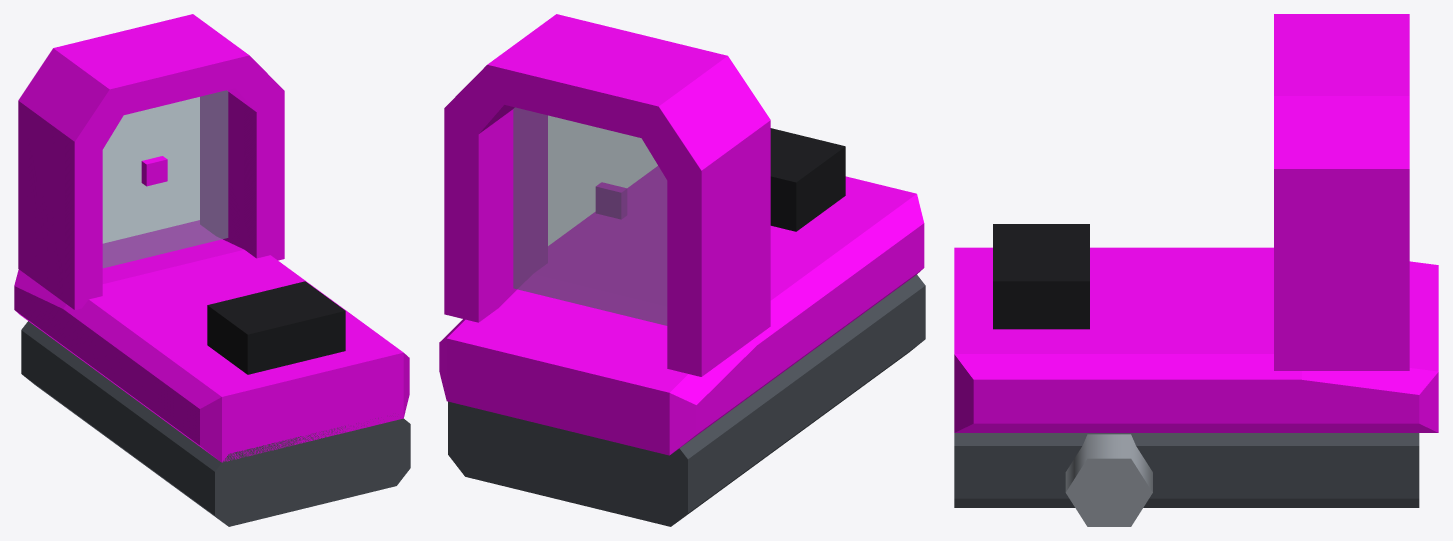
Rendered from att_scope_reddot.glb.
3 views of the same model, side by side, from view 1: azimuth 30°, elevation 25°; view 2: azimuth 150°, elevation 25°; view 3: azimuth 270°, elevation 25° (orthographic). The views are drawn at different scales.
Visible parts, largest first — view 1: att_scope_reddot__body; view 2: att_scope_reddot__body; view 3: att_scope_reddot__body.
Part boxes in pixels (<box>): att_scope_reddot__body: <box>14,14,410,526</box>; att_scope_reddot__body: <box>439,14,925,526</box>; att_scope_reddot__body: <box>954,14,1438,526</box>.
Size of the model in its own units: 0.034 by 0.046 by 0.05.
2 materials, 1 textured.
